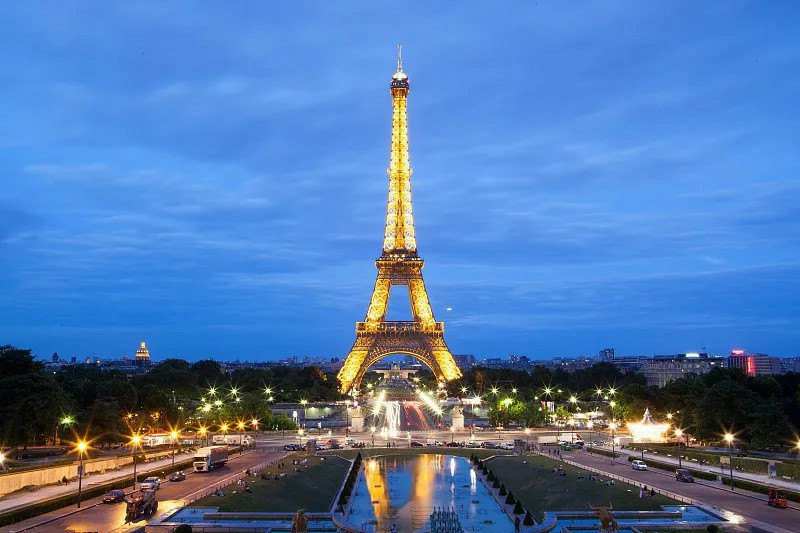Eiffel: (337, 45, 463, 394)
